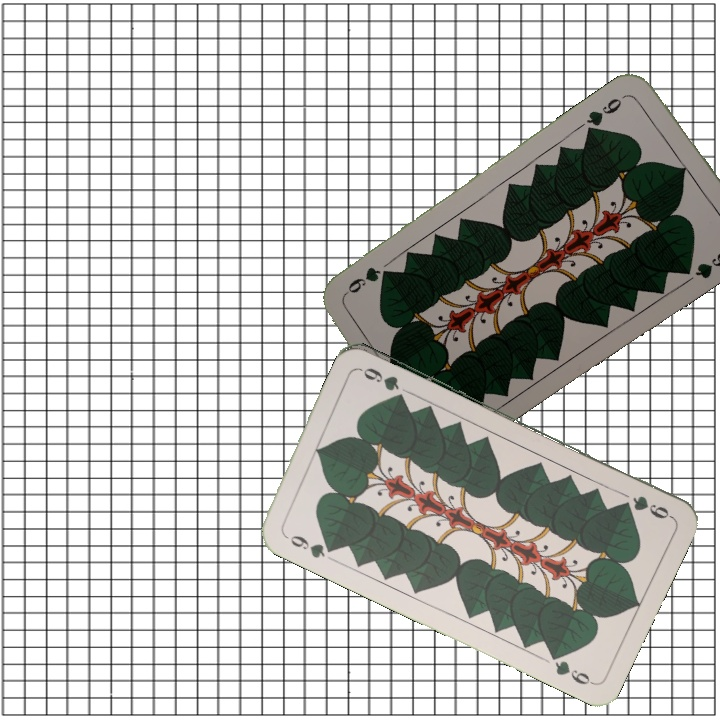G9: (582, 90, 631, 133), (279, 528, 337, 561), (628, 491, 675, 522)
